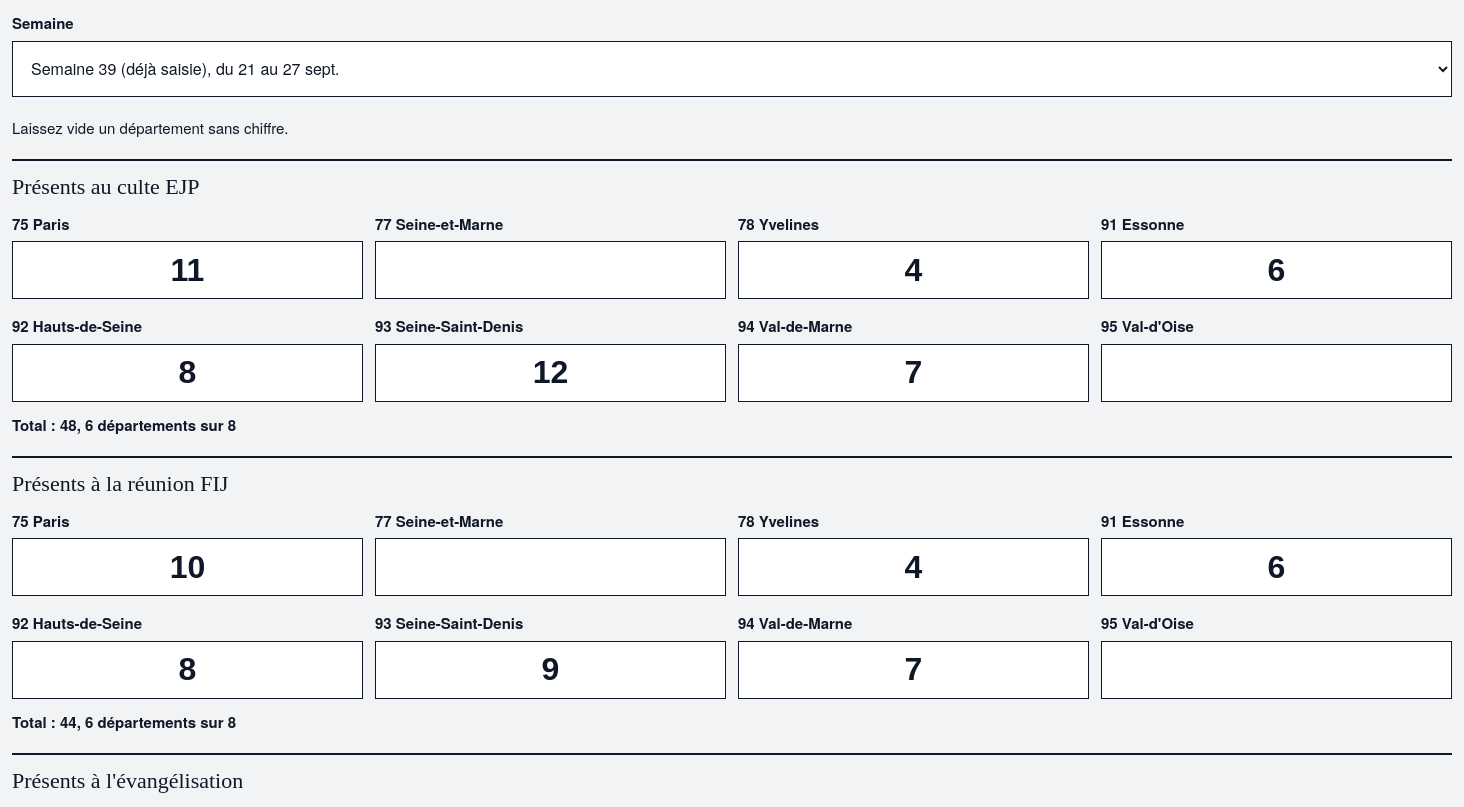
Test: FormulaireStatistiquesFij › changer de semaine reprend ce qui est enregistré pour elle
Expected: the field labelled "77 Seine-et-Marne" below "Présents au culte EJP" is empty, [375,241,726,299]
Select "Semaine 38 (déjà saisie), du 14 au 20 sept." in the dropdown labelled "Semaine" at {"x": 732, "y": 68}, box [12,40,1452,96]
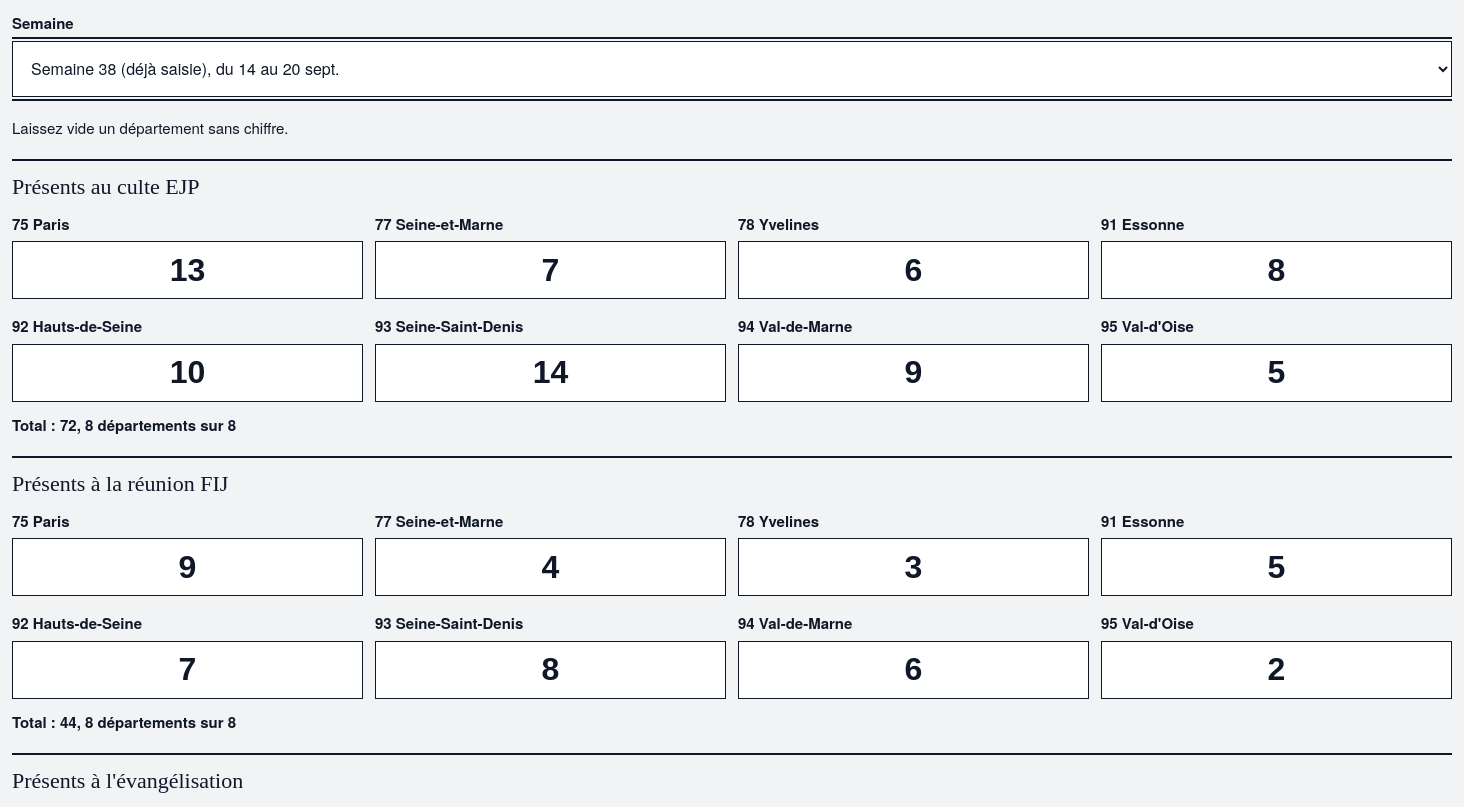
Expected: the field labelled "77 Seine-et-Marne" below "Présents au culte EJP" is not empty, [375,241,726,299]
Expected: the text "Total : 72, 8 départements sur 8" is shown, [12,414,236,436]
